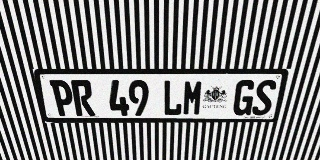4: (107, 80, 129, 116)
9: (128, 80, 149, 116)
G: (232, 80, 257, 115)
L: (163, 80, 183, 116)
M: (182, 80, 204, 116)
P: (49, 80, 76, 116)
R: (70, 80, 95, 116)
S: (251, 80, 278, 115)
